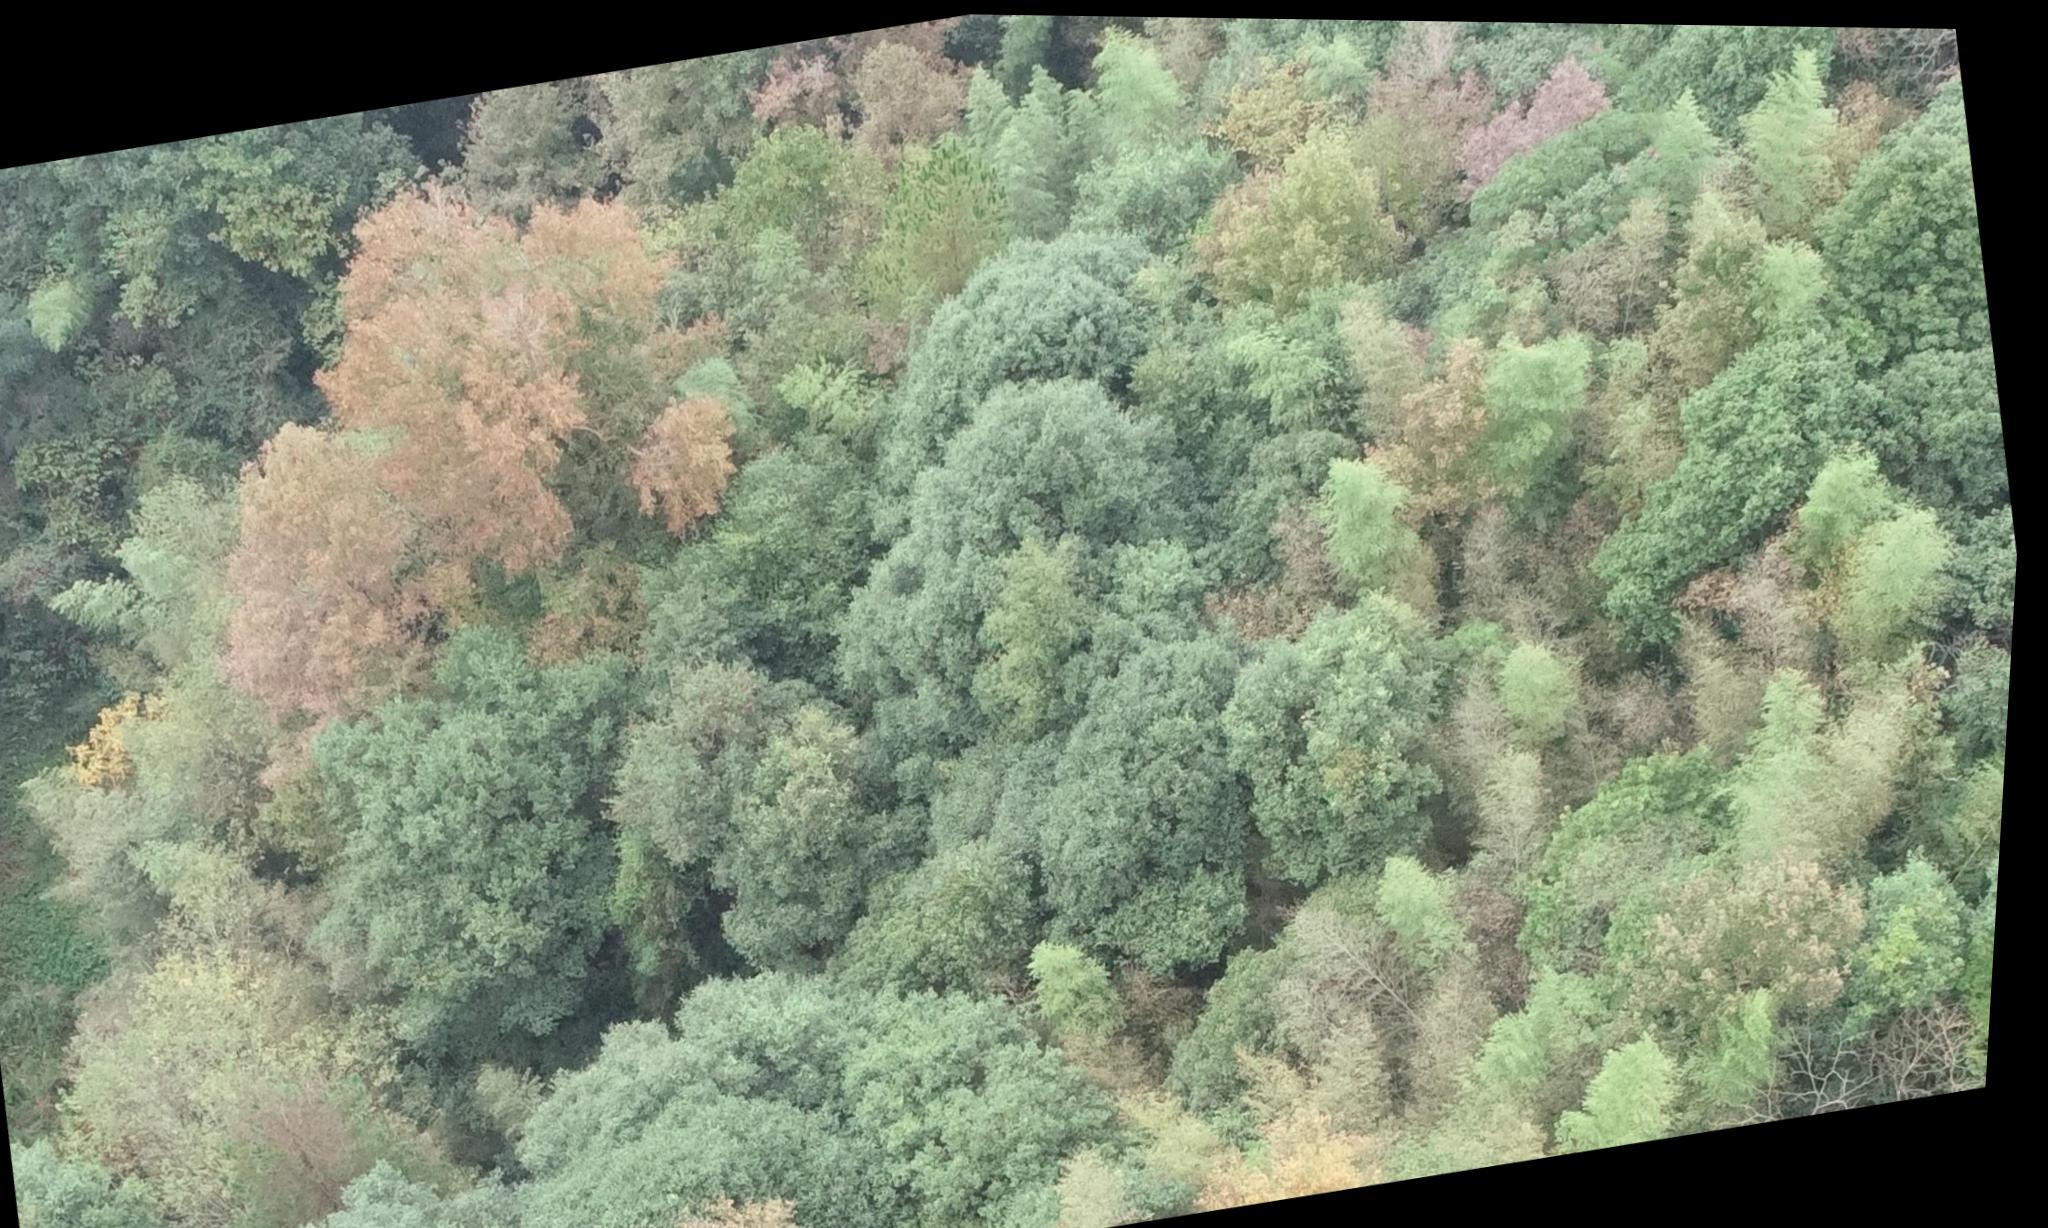heavy: (79, 134, 766, 767), (1374, 16, 1631, 215)
